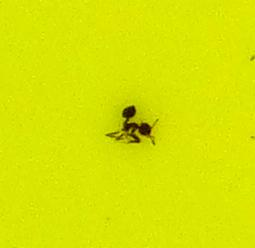Hymenoptera: (100, 100, 155, 148)
